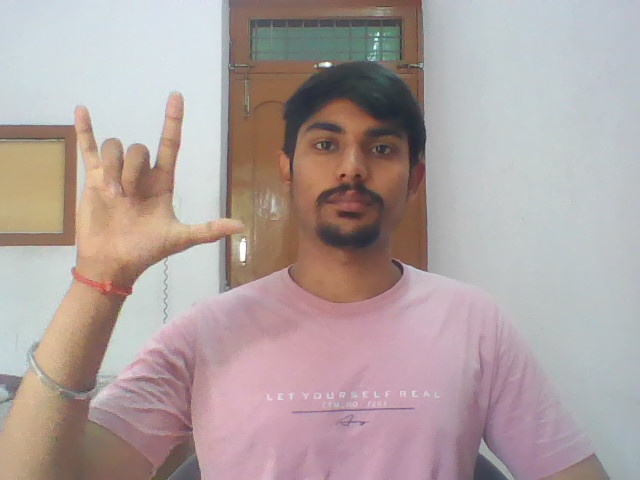I Love You: (60, 87, 251, 270)
